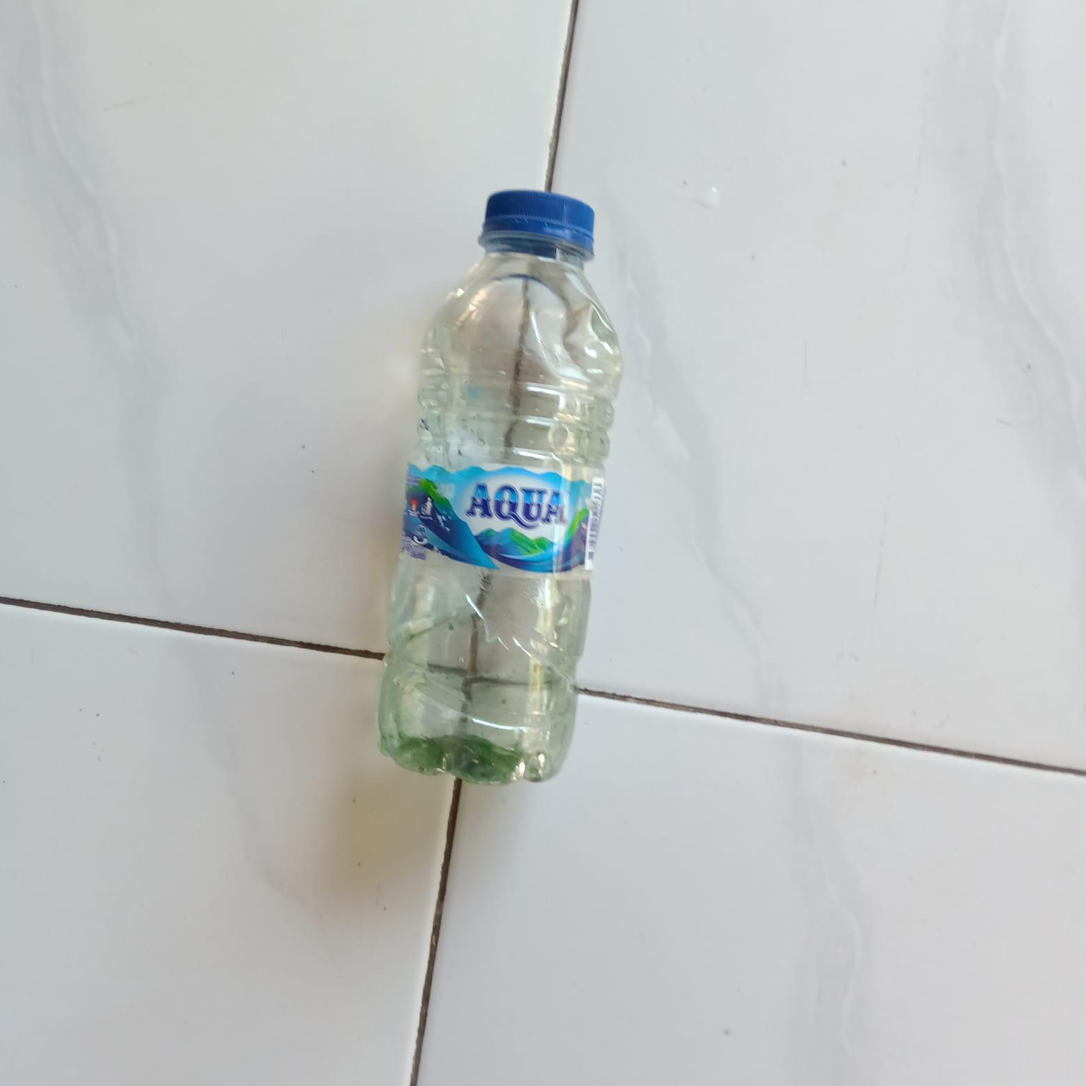Plastik: (378, 187, 628, 785)
